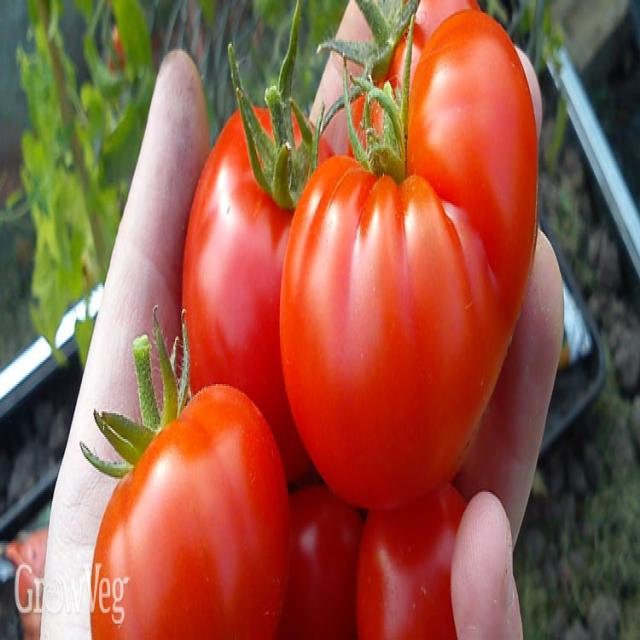kirmizi: (90, 5, 562, 640)
